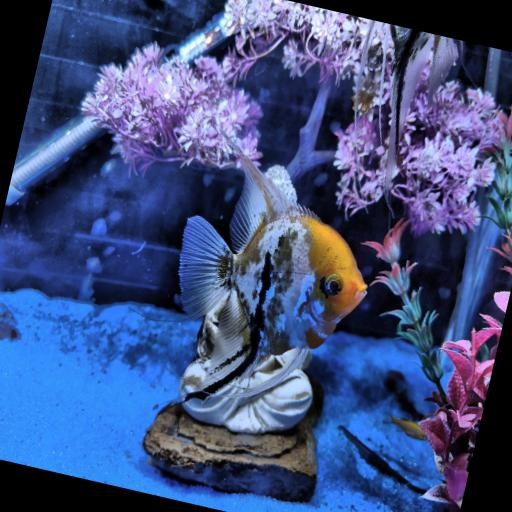Fish: (179, 140, 366, 400), (380, 24, 463, 192), (390, 417, 427, 440)
